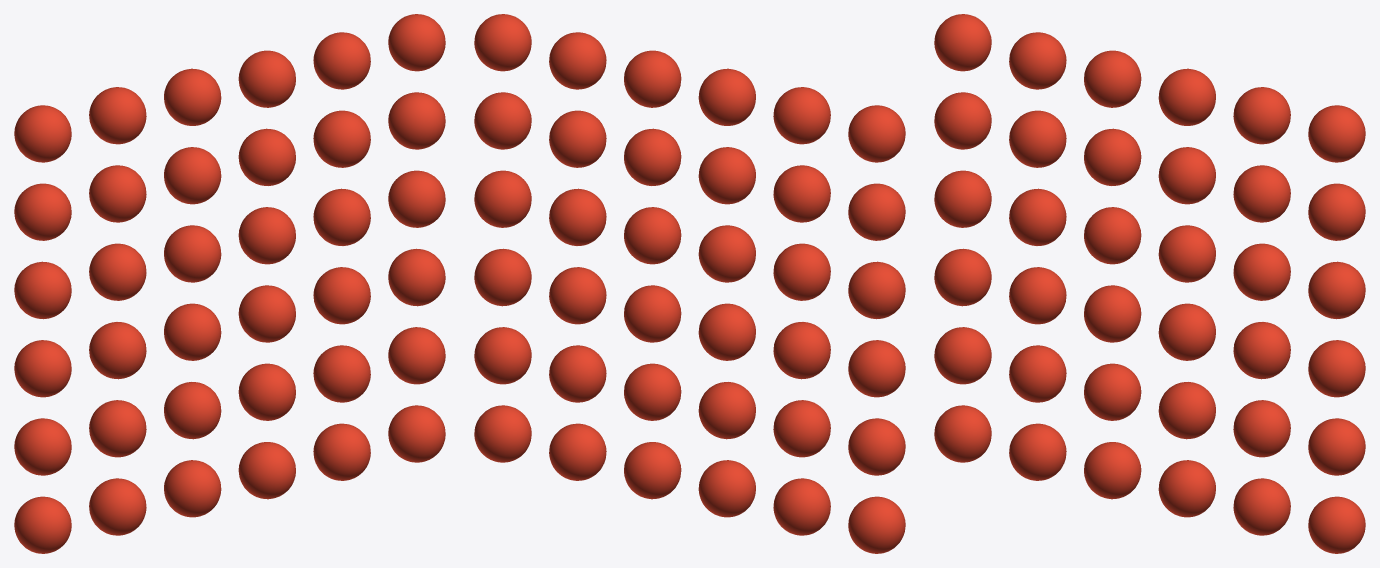
The model's file is test_pbr.gltf.
3 renders of one model, left to right at view 1: azimuth 30°, elevation 25°; view 2: azimuth 150°, elevation 25°; view 3: azimuth 330°, elevation 25°, orthographic.
Parts seen in each view (by area): view 1: sphere_1 (×6), sphere_6 (×6), sphere_5 (×6), sphere_2 (×6), sphere_3 (×6), sphere_4 (×6); view 2: sphere_6 (×6), sphere_1 (×6), sphere_2 (×6), sphere_5 (×6), sphere_3 (×6), sphere_4 (×6); view 3: sphere_6 (×6), sphere_1 (×6), sphere_2 (×6), sphere_5 (×6), sphere_4 (×6), sphere_3 (×6).
Boxes of the visible parts, <box> form: sphere_1 (×6): <box>14,105,71,553</box>; sphere_6 (×6): <box>388,14,445,462</box>; sphere_5 (×6): <box>313,32,370,480</box>; sphere_2 (×6): <box>89,87,146,535</box>; sphere_3 (×6): <box>164,68,221,517</box>; sphere_4 (×6): <box>238,50,295,499</box>; sphere_6 (×6): <box>474,14,531,462</box>; sphere_1 (×6): <box>848,105,905,553</box>; sphere_2 (×6): <box>773,87,830,535</box>; sphere_5 (×6): <box>549,32,606,480</box>; sphere_3 (×6): <box>698,68,755,517</box>; sphere_4 (×6): <box>624,50,681,499</box>; sphere_6 (×6): <box>1308,105,1365,553</box>; sphere_1 (×6): <box>934,14,991,462</box>; sphere_2 (×6): <box>1009,32,1066,480</box>; sphere_5 (×6): <box>1233,87,1290,535</box>; sphere_4 (×6): <box>1158,68,1215,517</box>; sphere_3 (×6): <box>1084,50,1141,499</box>.
Bounding box in the file's own units: 8.5 × 8.5 × 1.
